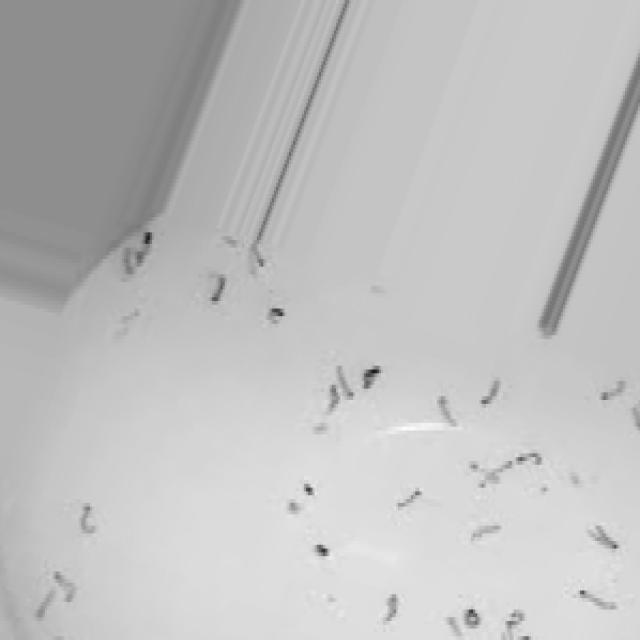larvas: (123, 227, 154, 278), (478, 454, 512, 491), (470, 458, 504, 485), (582, 589, 617, 611), (597, 522, 621, 553), (470, 517, 499, 539), (54, 572, 74, 601), (210, 271, 226, 306), (340, 367, 356, 400), (480, 378, 500, 403), (600, 384, 624, 404), (80, 504, 94, 538), (439, 396, 455, 424), (36, 589, 51, 618), (249, 244, 262, 276), (449, 612, 463, 640), (503, 625, 529, 640), (399, 490, 418, 510), (385, 594, 399, 620), (518, 452, 543, 466), (504, 609, 524, 626), (362, 368, 379, 388), (590, 533, 608, 550), (328, 380, 338, 410), (466, 606, 478, 628), (268, 306, 284, 322)
